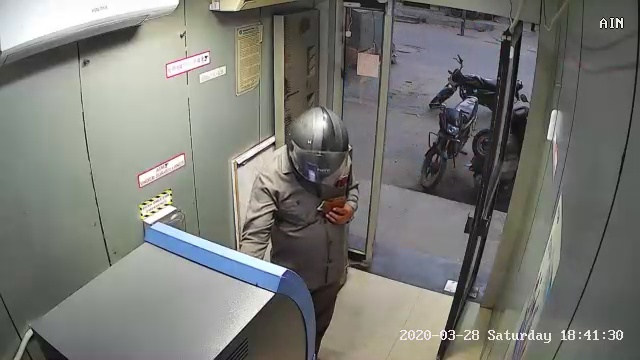helmet: (282, 105, 352, 203)
